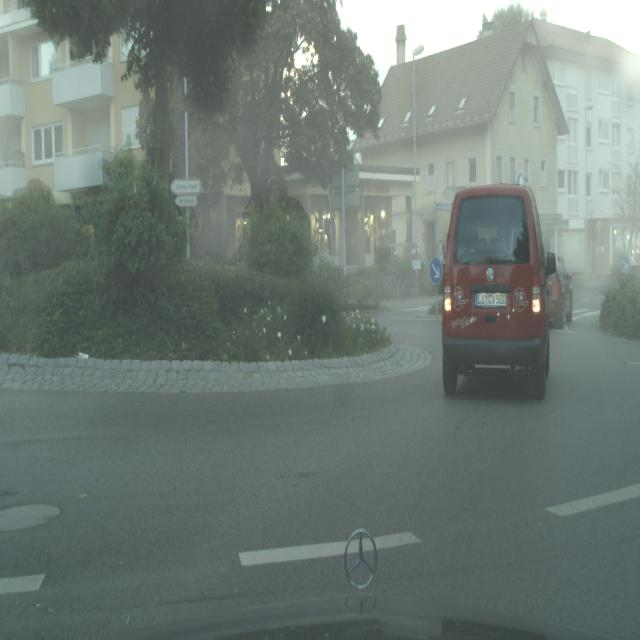person: (441, 182, 551, 399), (546, 252, 569, 329), (558, 255, 573, 325)
